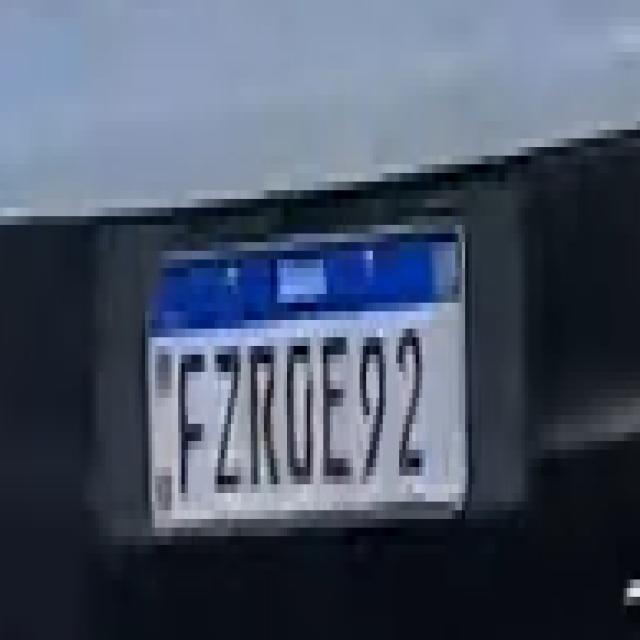Placa_mercosul_carro: (143, 203, 473, 534)
